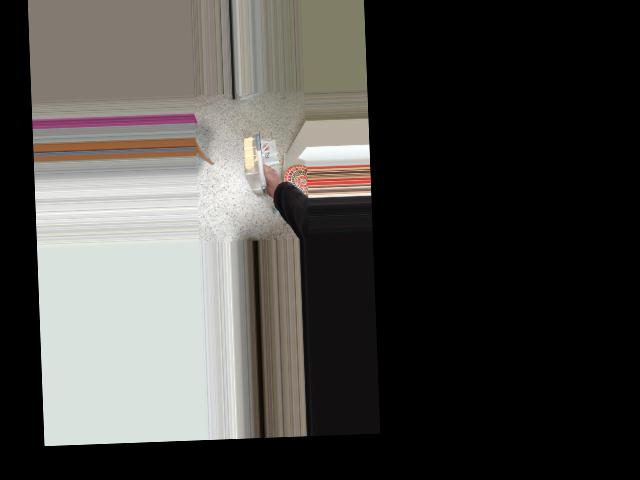cheese: (235, 132, 279, 194)
